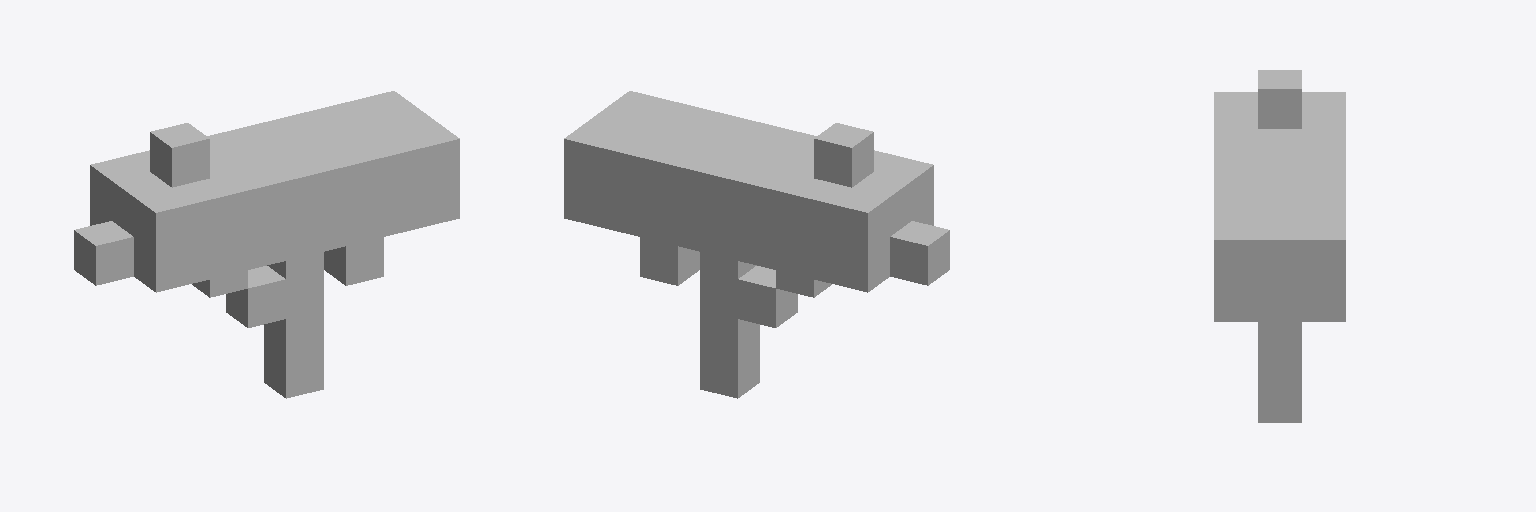
Rendered from uzi.obj.
The picture shows the model from 3 angles: view 1: azimuth 30°, elevation 25°; view 2: azimuth 150°, elevation 25°; view 3: azimuth 270°, elevation 25°; orthographic projection.
Bounding box in the file's own units: 9 × 7 × 3.